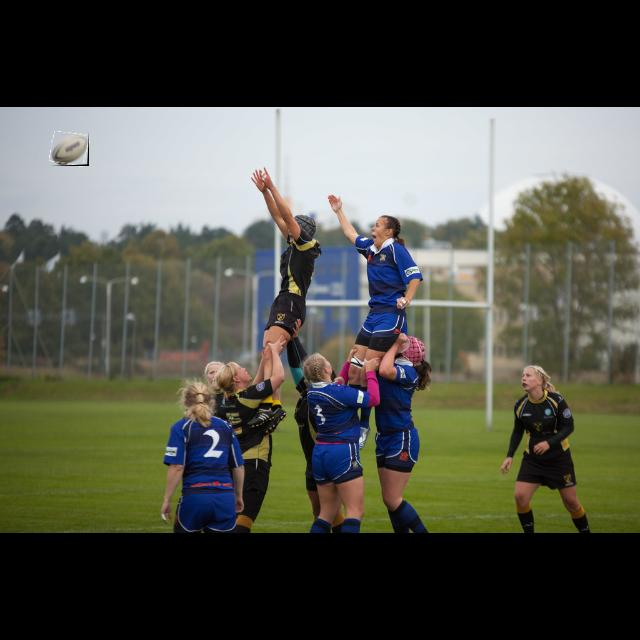Football: (51, 132, 89, 166)
